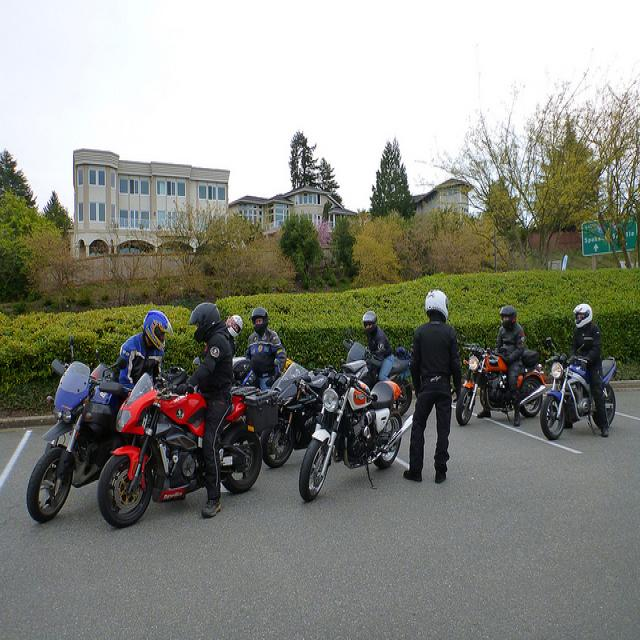motor: (95, 357, 284, 534), (27, 337, 127, 524), (299, 372, 413, 504), (263, 358, 368, 467), (456, 333, 546, 425), (543, 357, 619, 437), (344, 341, 413, 415)
